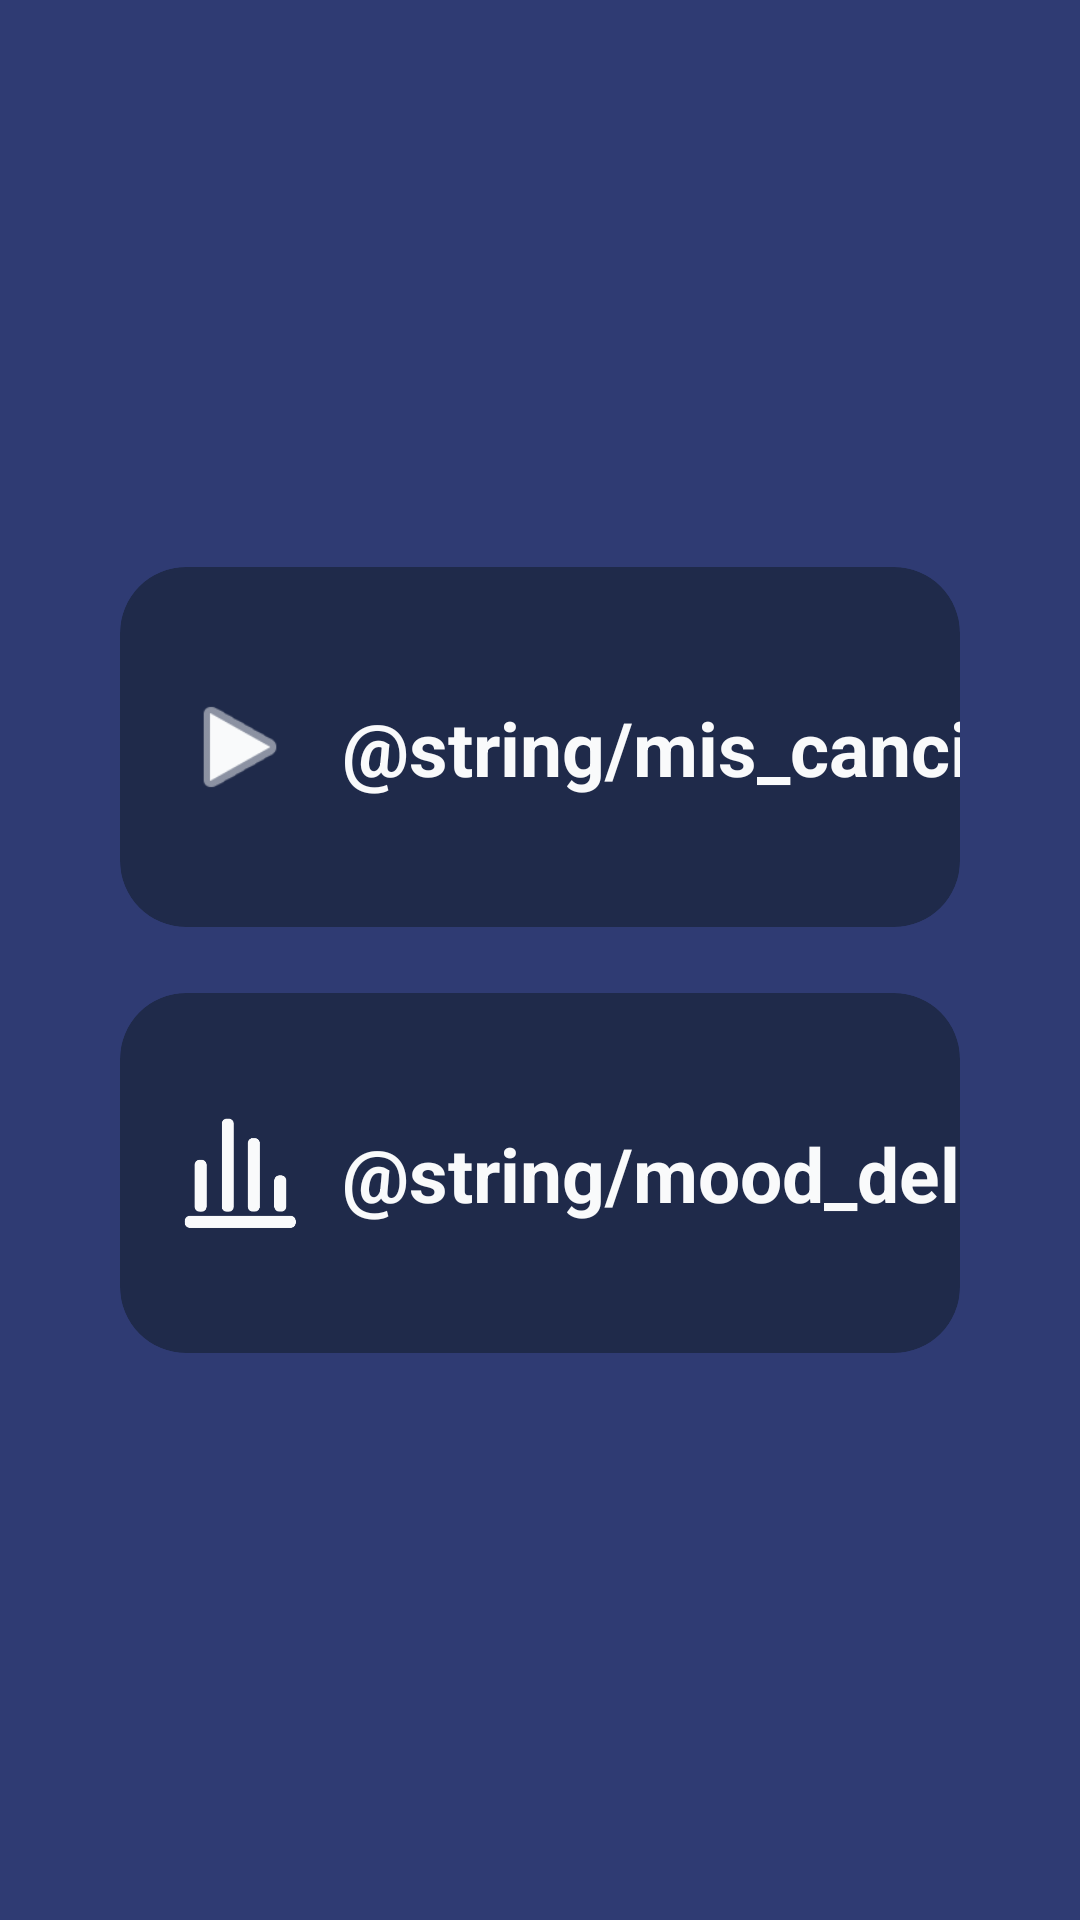

Screen size 1080×1920. Icon name, then its center in pixels as (x,y):
play: (240,747)
